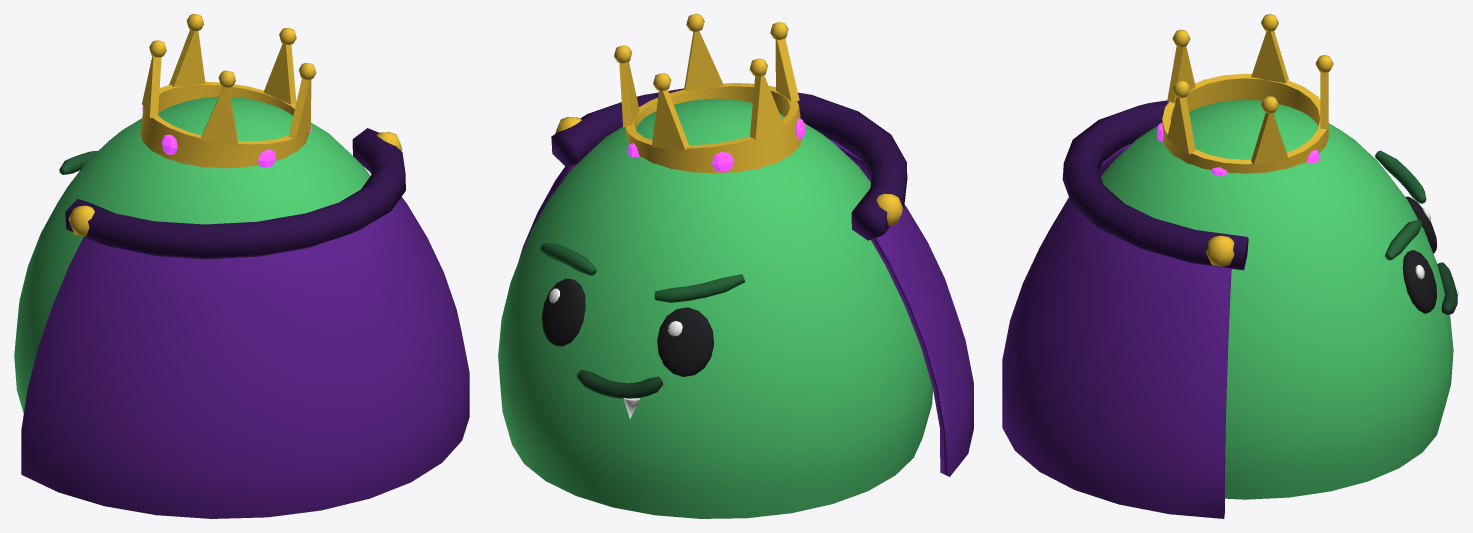
The model's file is Overlord.glb.
3 views of the same model, side by side, from view 1: azimuth 30°, elevation 25°; view 2: azimuth 150°, elevation 25°; view 3: azimuth 270°, elevation 25° (orthographic). The views are drawn at different scales.
Parts seen in each view (by area): view 1: Cape, Body, Collar, Crown, Clasp, Gems; view 2: Body, Crown, Cape, Collar, Eyes, Brows, Mouth, Clasp, Gems; view 3: Body, Cape, Crown, Collar, Eyes, Brows, Clasp, Mouth.
Part boxes in pixels (x1,y1,x2,y2): Cape: [21, 172, 469, 518]; Body: [14, 96, 370, 413]; Collar: [65, 128, 405, 259]; Crown: [140, 14, 316, 168]; Clasp: [68, 132, 402, 236]; Gems: [142, 106, 312, 167]; Body: [498, 98, 932, 518]; Crown: [614, 14, 802, 173]; Cape: [518, 138, 973, 476]; Collar: [551, 88, 907, 240]; Eyes: [542, 278, 713, 376]; Brows: [540, 243, 744, 302]; Mouth: [577, 370, 663, 398]; Clasp: [555, 117, 903, 226]; Gems: [627, 118, 805, 172]; Body: [1101, 100, 1453, 499]; Cape: [1002, 143, 1231, 518]; Crown: [1162, 14, 1333, 173]; Collar: [1062, 100, 1248, 270]; Eyes: [1402, 196, 1436, 313]; Brows: [1375, 150, 1426, 260]; Clasp: [1206, 235, 1234, 266]; Mouth: [1437, 262, 1457, 314].
Size of the model in its own units: 7.62 by 6.48 by 7.13.
